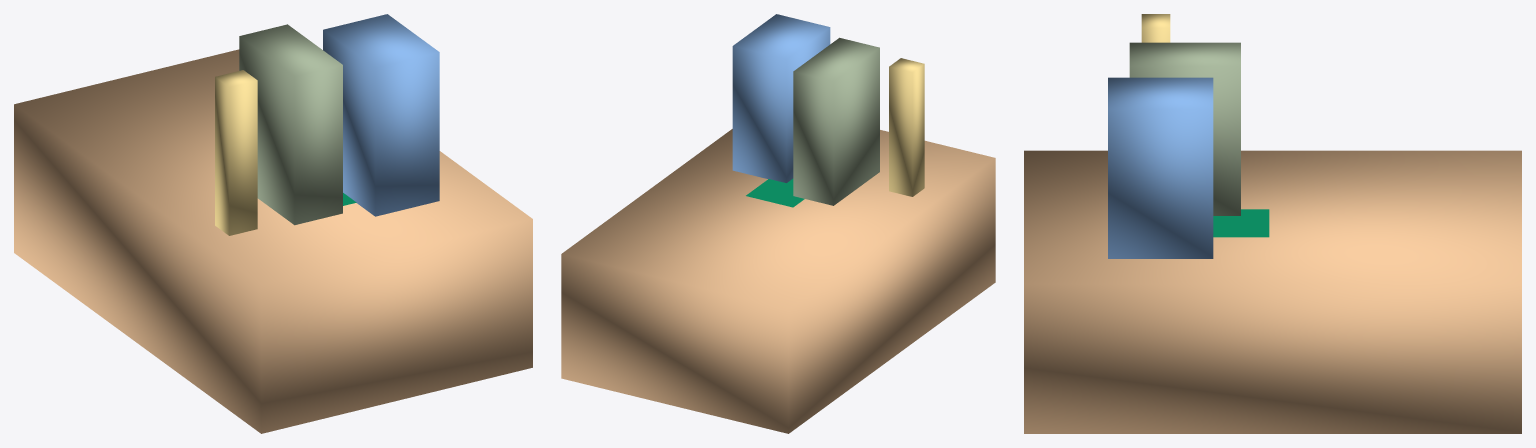
Rendered from newscene.obj.
3 views of the same model, side by side, from view 1: azimuth 30°, elevation 25°; view 2: azimuth 150°, elevation 25°; view 3: azimuth 270°, elevation 25° (orthographic). The views are drawn at different scales.
Parts seen in each view (by area): view 1: cube29, cube32, cube31, cube33; view 2: cube29, cube31, cube32, cube33, rectangle30; view 3: cube29, cube32, cube31, rectangle30, cube33.
Part boxes in pixels (left/top/right/bottom): cube29: left=14, top=49, right=532, bottom=433; cube32: left=323, top=14, right=439, bottom=216; cube31: left=239, top=24, right=342, bottom=225; cube33: left=215, top=70, right=257, bottom=235; cube29: left=561, top=129, right=995, bottom=433; cube31: left=793, top=37, right=879, bottom=205; cube32: left=732, top=14, right=830, bottom=182; cube33: left=889, top=58, right=924, bottom=196; rectangle30: left=746, top=178, right=804, bottom=207; cube29: left=1024, top=150, right=1521, bottom=433; cube32: left=1108, top=77, right=1213, bottom=258; cube31: left=1129, top=42, right=1240, bottom=215; rectangle30: left=1213, top=209, right=1269, bottom=237; cube33: left=1141, top=14, right=1170, bottom=42.
Bounding box in the file's own units: 489 × 513 × 771.
